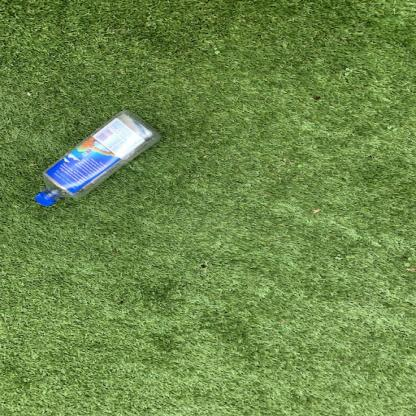trash: (36, 111, 167, 208)
